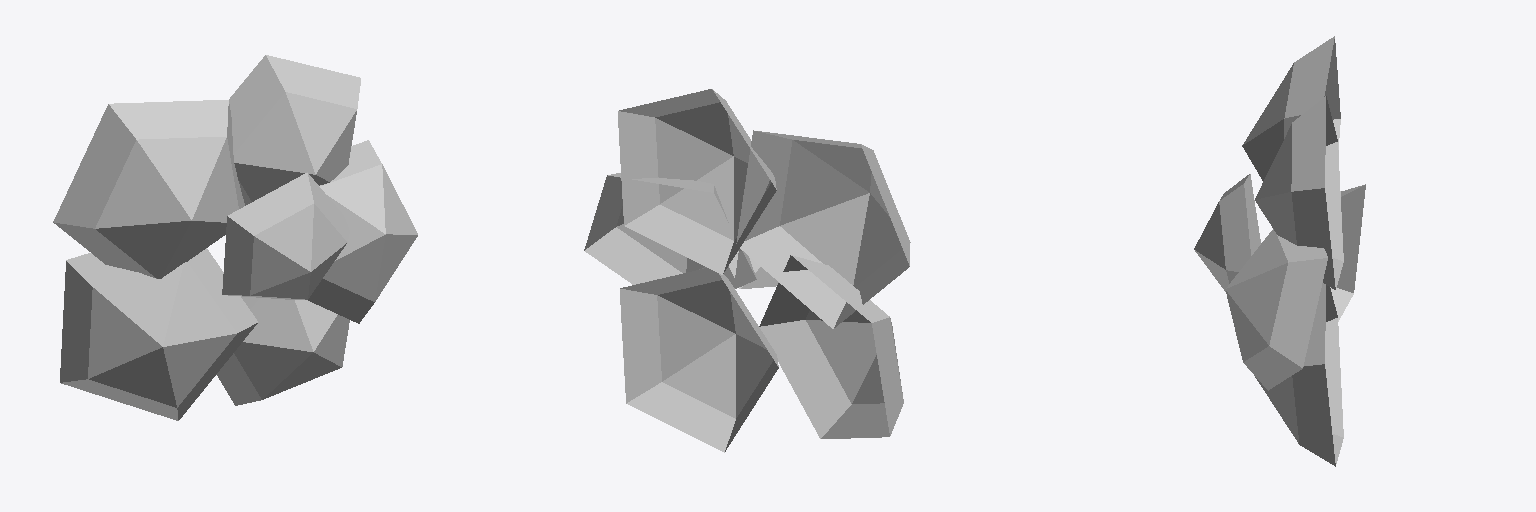
File: bush-1.obj
The picture shows the model from 3 angles: view 1: azimuth 30°, elevation 25°; view 2: azimuth 150°, elevation 25°; view 3: azimuth 270°, elevation 25°; orthographic projection.
Visible parts, largest first — view 1: obj1; view 2: obj1; view 3: obj1.
Boxes of the visible parts, <box> form: obj1: <box>53,55,417,420</box>; obj1: <box>584,89,910,452</box>; obj1: <box>1194,36,1365,466</box>.
Size of the model in its own units: 1.45 by 1.42 by 0.6276.